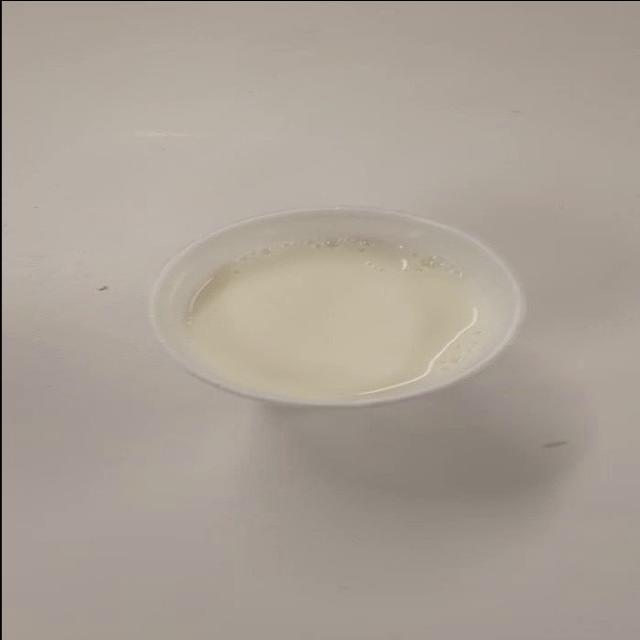Milk: (130, 189, 590, 450)
